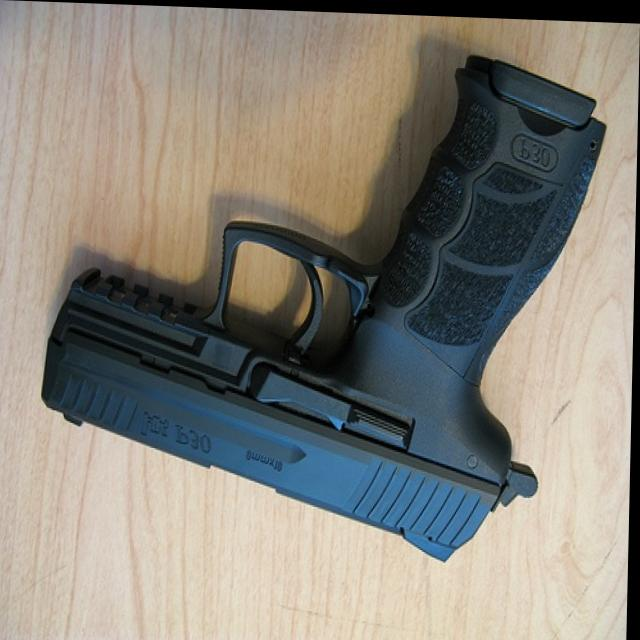handgun: (35, 44, 614, 562)
